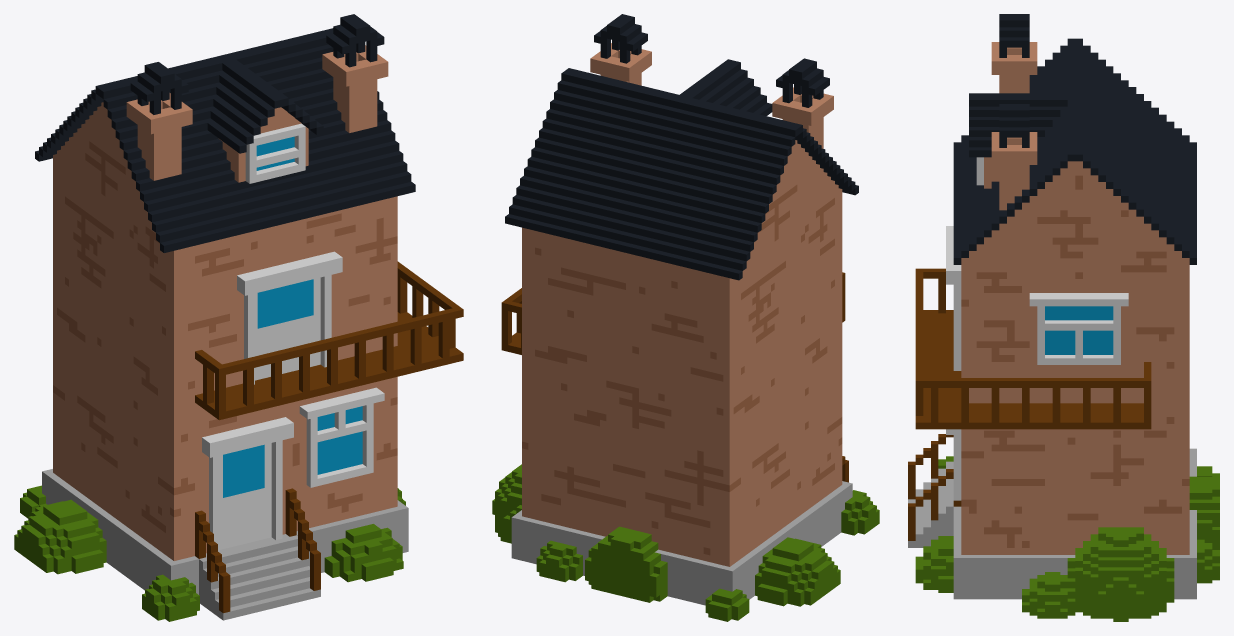
File: OldHouse.obj
The picture shows the model from 3 angles, left to right: view 1: azimuth 30°, elevation 25°; view 2: azimuth 150°, elevation 25°; view 3: azimuth 270°, elevation 25°; orthographic projection. The views are drawn at different scales.
Size of the model in its own units: 4.9 by 7 by 4.1.
Materials: 1 (1 with a texture image).
